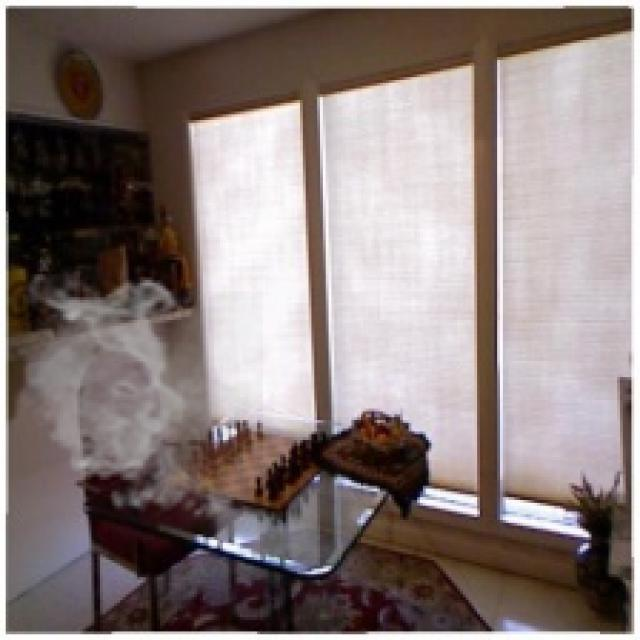Smoke: (14, 274, 263, 526)
